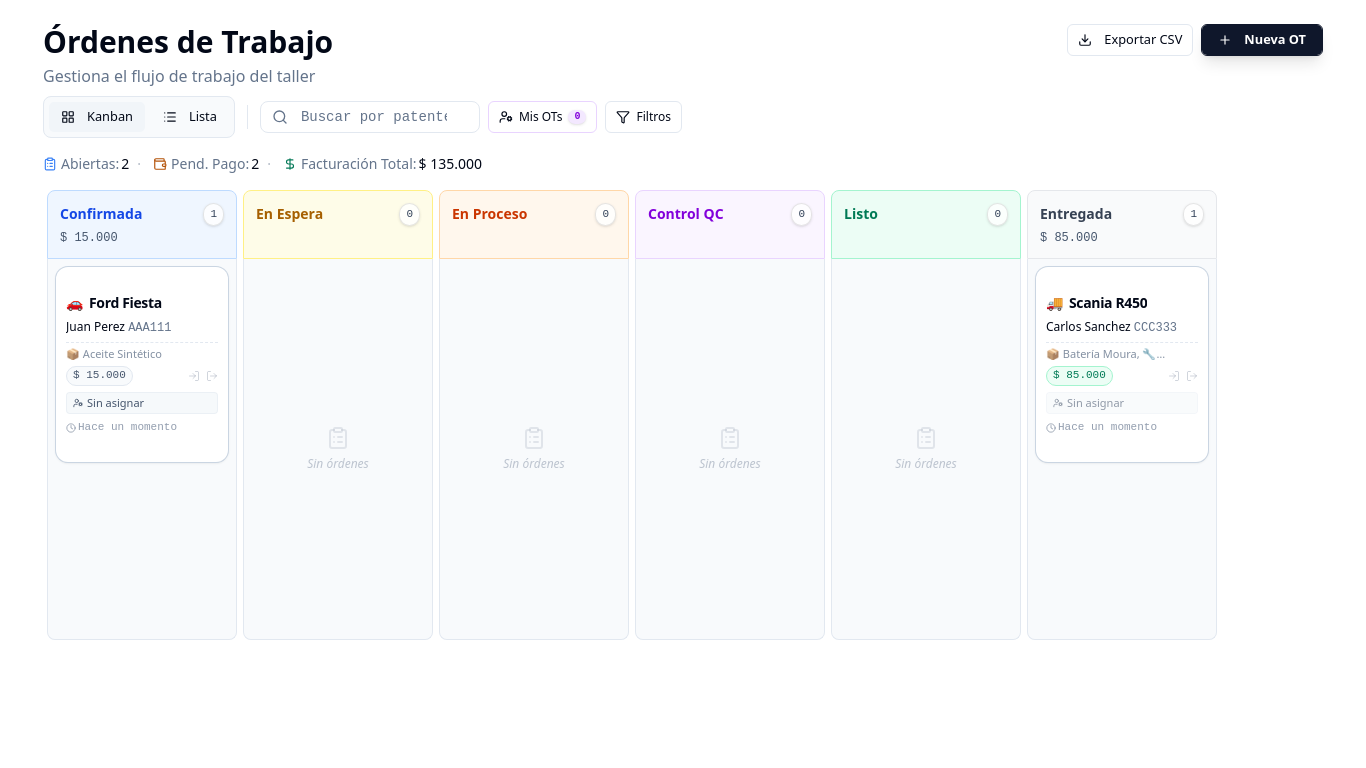
Test: WorkOrdersPage - Interactive List View Controls › filters and searches work orders by product or service name inside workOrderItems
The image size is (1366, 768).
Expected: the text "AAA111" is shown, left=128, top=320, right=171, bottom=334
# Switch to List View
Click the button "Lista". click: (190, 117)
box: left=150, top=101, right=230, bottom=133
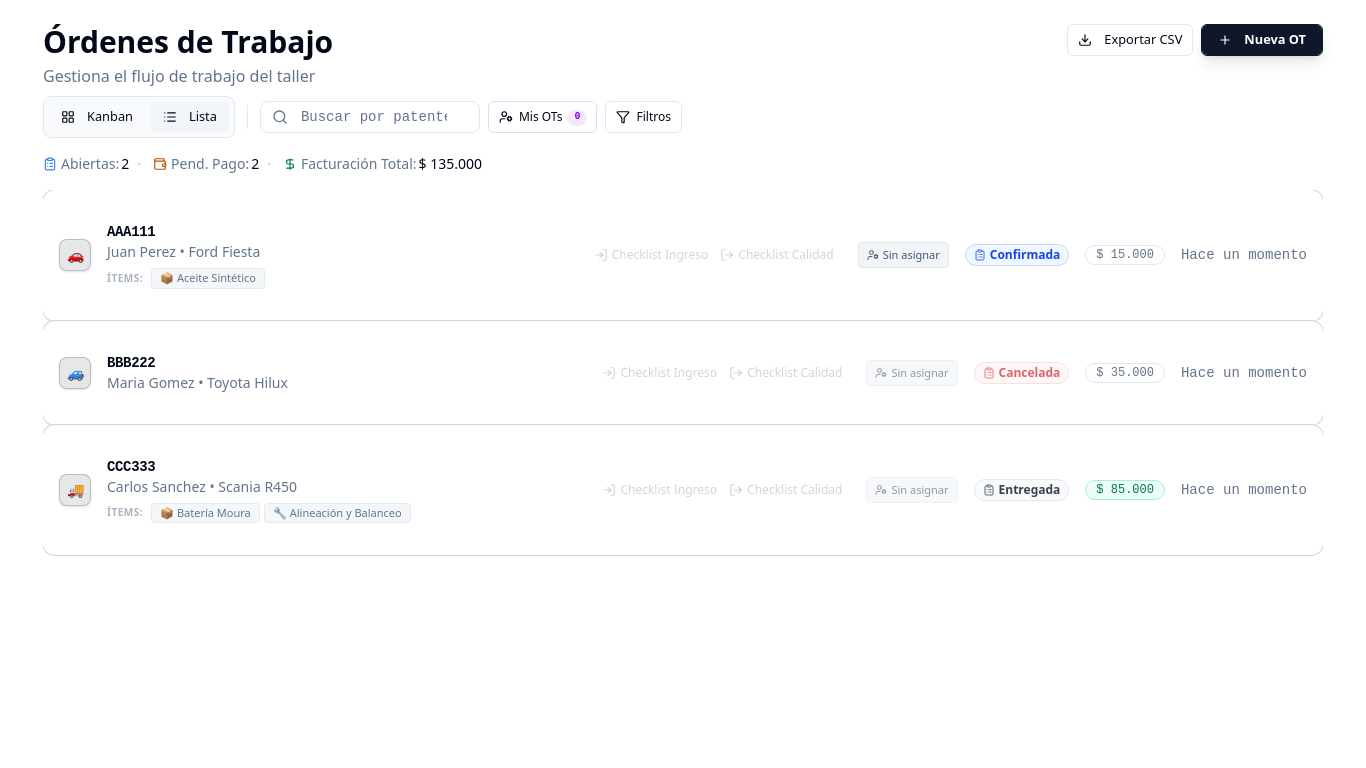
Expected: the text "AAA111" is shown, left=107, top=224, right=155, bottom=240
Now the text "BBB222" is shown, box left=107, top=355, right=155, bottom=371
# Type a product name in search input
Type "Moura" into the field with placeholder "Buscar por patente, cliente...". click: (370, 117)
box: left=260, top=101, right=480, bottom=133
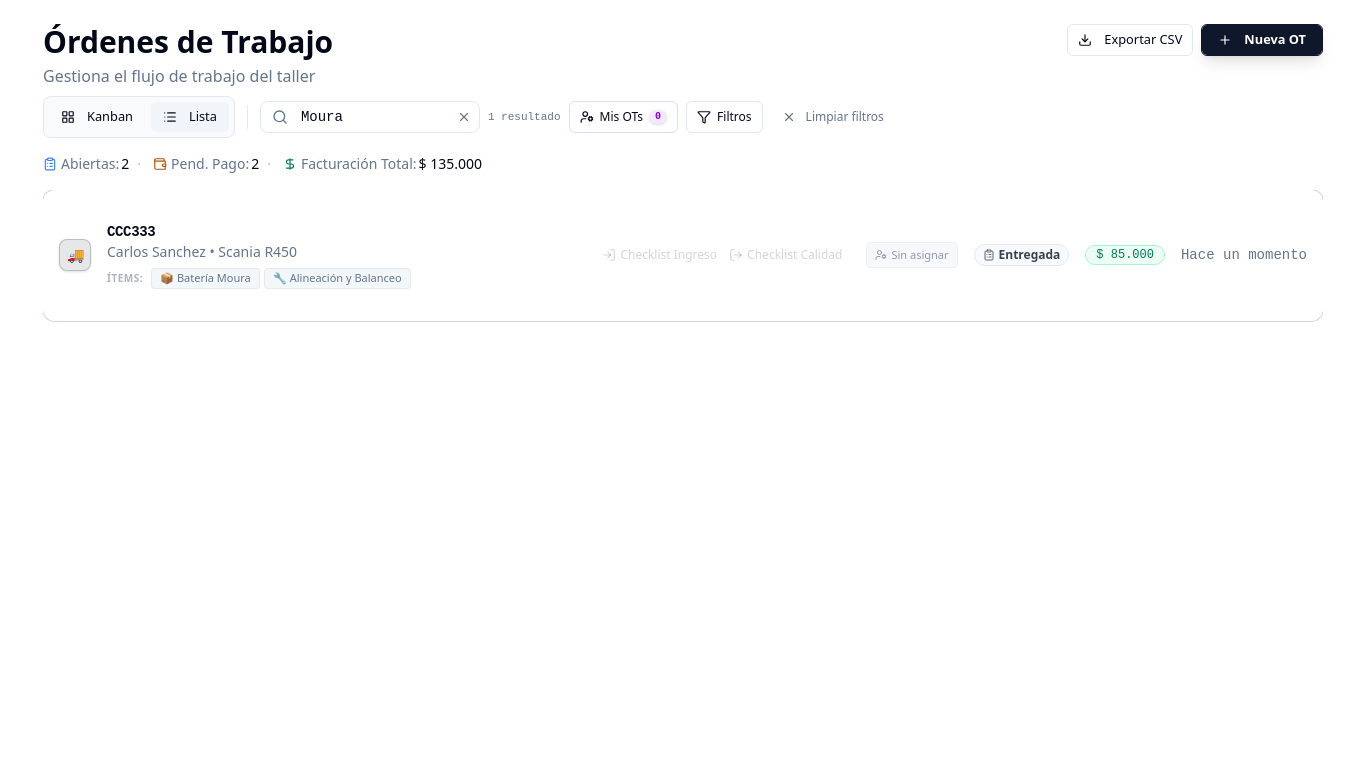
Expected: the text "CCC333" is shown, left=107, top=224, right=155, bottom=240
Now the link "AAA111" is gone
Now the link "BBB222" is gone
# Clear search
Clear the field. click: (370, 117)
box: left=260, top=101, right=480, bottom=133
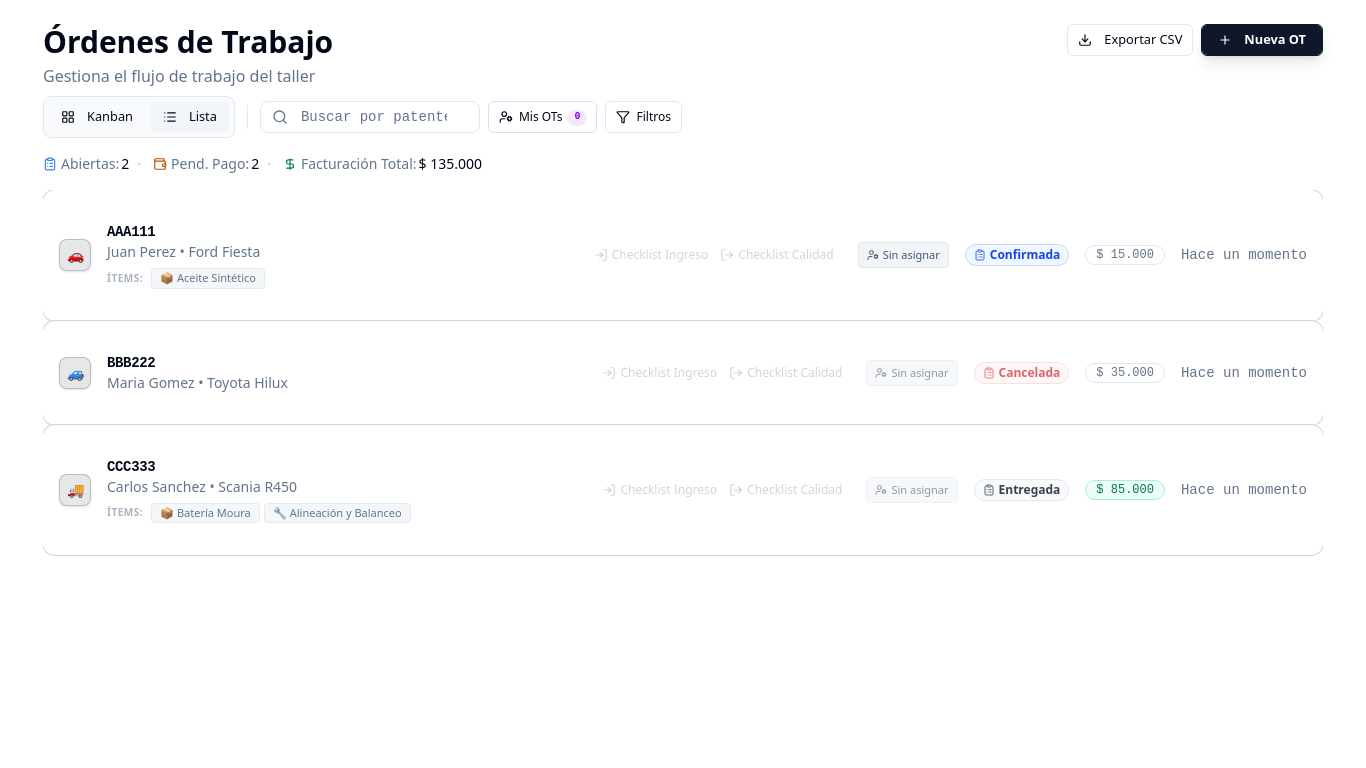
Expected: the text "CCC333" is shown, left=107, top=459, right=155, bottom=475
Now the text "AAA111" is shown, box left=107, top=224, right=155, bottom=240
Now the text "BBB222" is shown, box left=107, top=355, right=155, bottom=371
# Type a service name in search input
Type "Alineación" into the field with placeholder "Buscar por patente, cliente...". click: (370, 117)
box: left=260, top=101, right=480, bottom=133
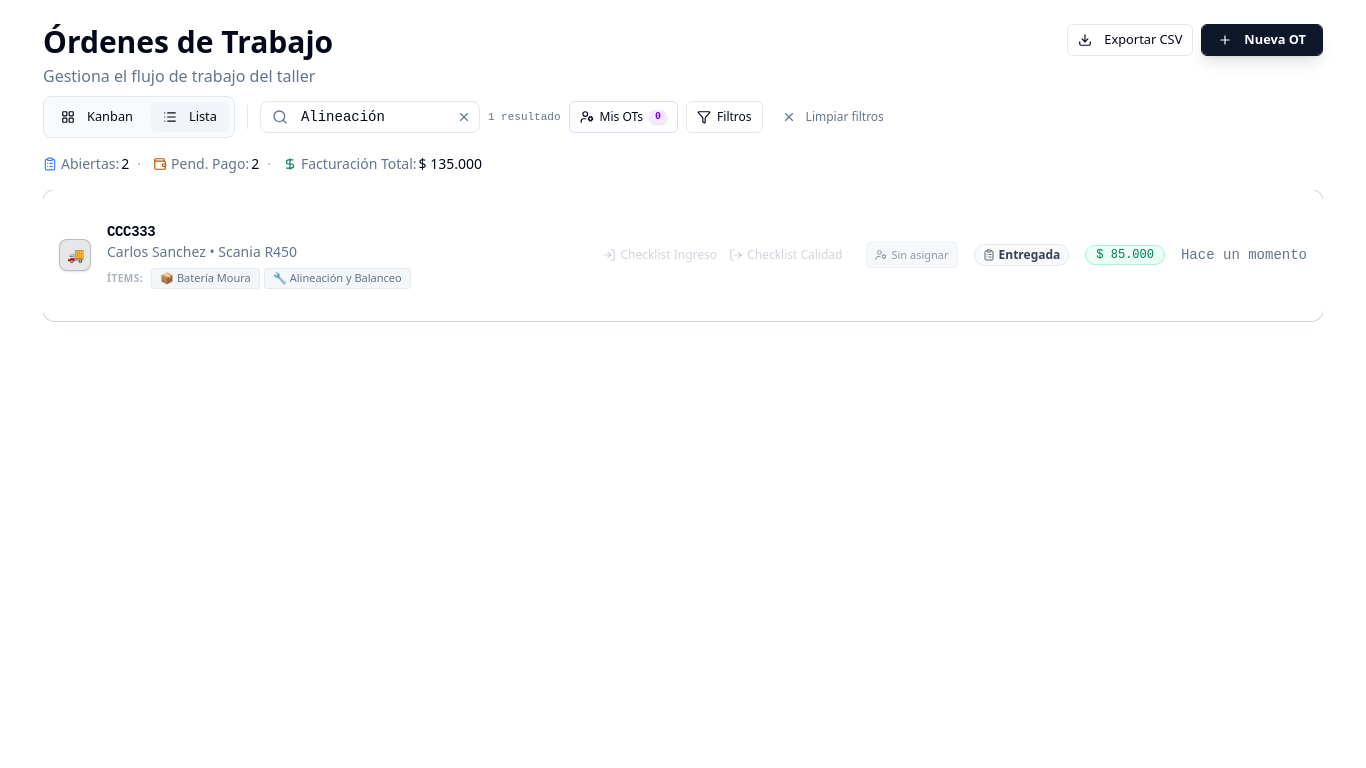
Expected: the text "CCC333" is shown, left=107, top=224, right=155, bottom=240
Now the link "AAA111" is gone
Now the link "BBB222" is gone
